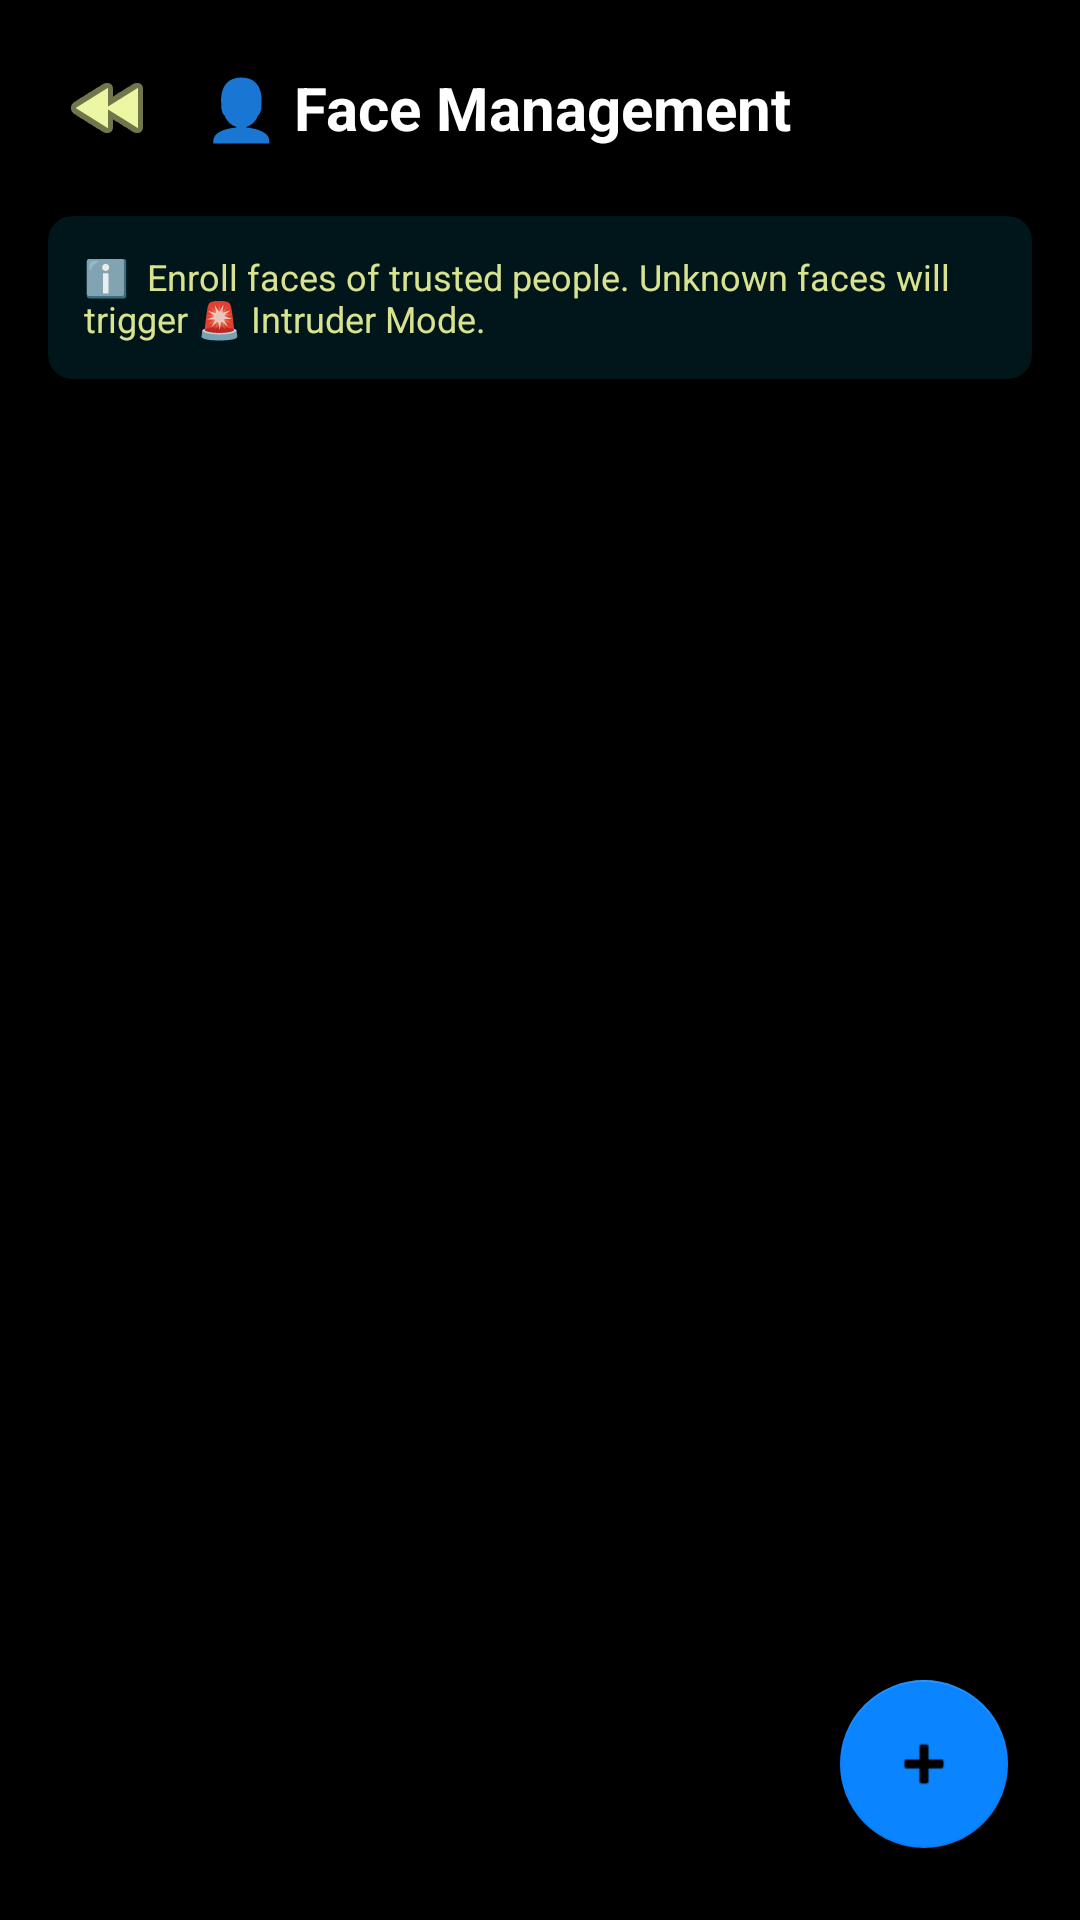

Screen size 1080 × 1920. Icon name, then its box in pixels as box(x1, y1, x2, y2):
Back: box(71, 83, 143, 133)
